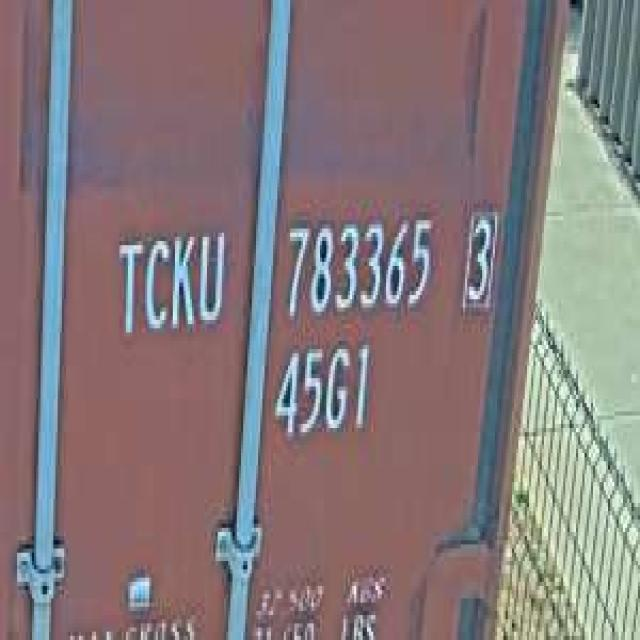dv: (457, 195, 499, 316)
owner: (109, 212, 230, 341)
serial: (278, 200, 438, 324)
size: (269, 332, 371, 449)
